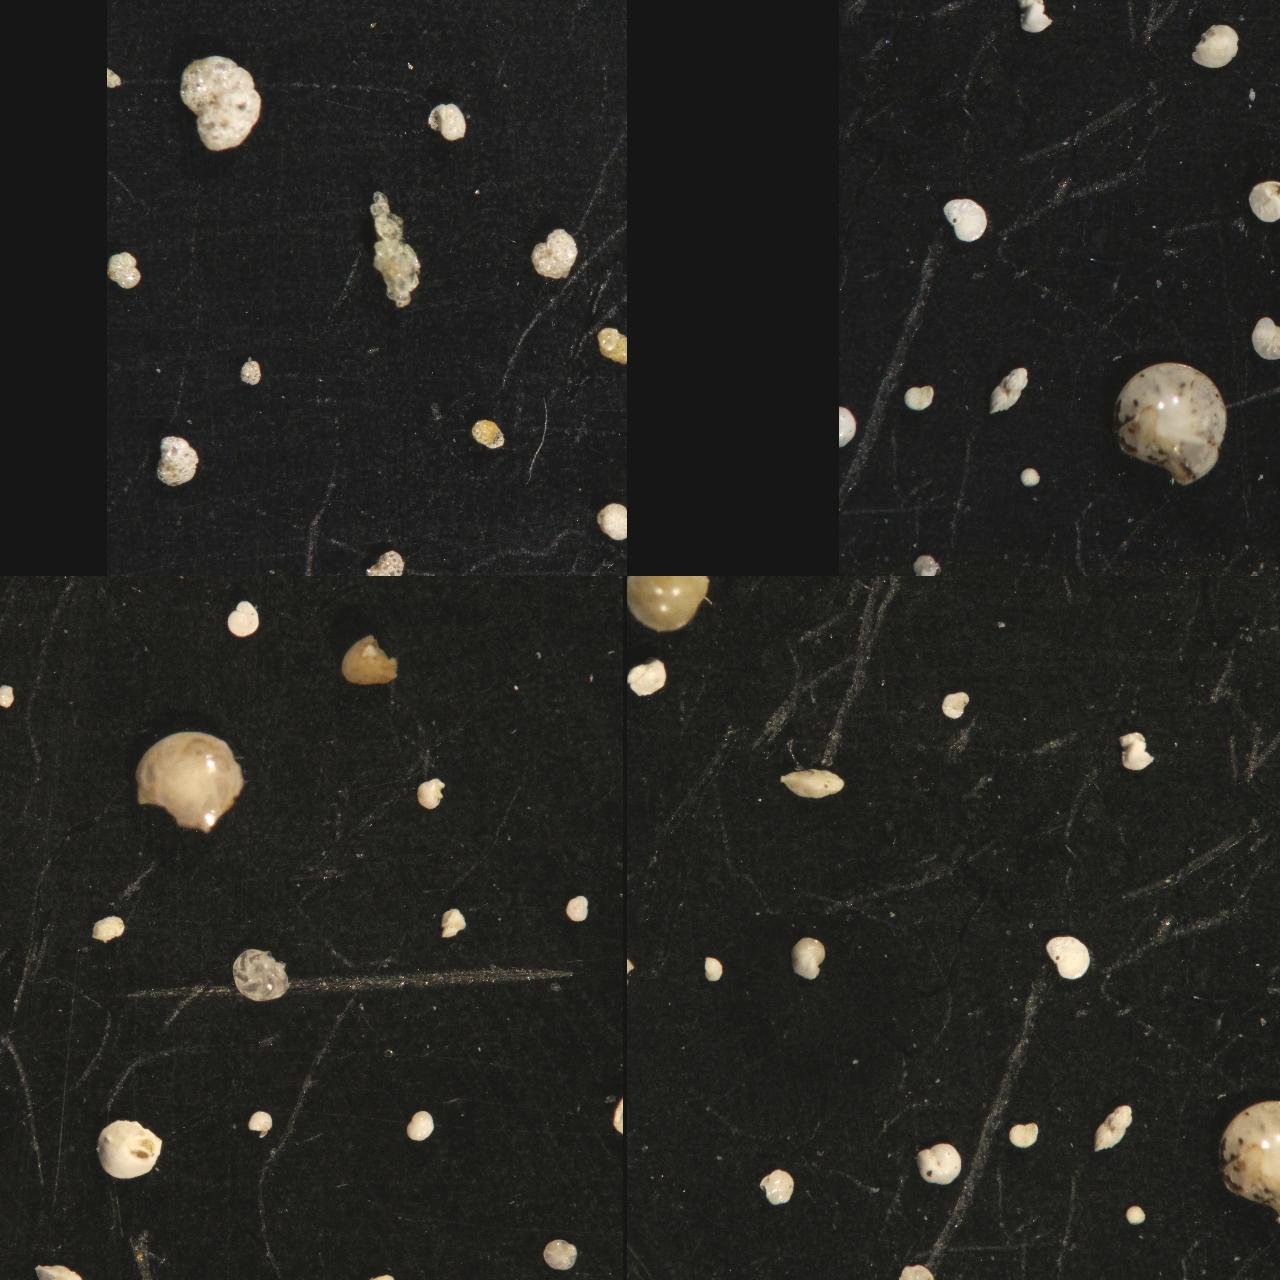agglutinated: (181, 56, 261, 154), (370, 190, 424, 309), (530, 229, 578, 281), (157, 436, 198, 486), (428, 104, 467, 142), (595, 503, 627, 542), (108, 252, 141, 288), (234, 0, 282, 25), (597, 327, 627, 365), (472, 420, 506, 450), (584, 0, 627, 23), (365, 551, 404, 576), (147, 0, 171, 26), (240, 360, 263, 386), (377, 0, 413, 13), (369, 0, 392, 13), (442, 0, 469, 11)
calcareous: (1112, 360, 1230, 488), (134, 728, 244, 835), (999, 0, 1183, 60), (1101, 576, 1280, 635), (933, 576, 1080, 634), (840, 0, 978, 57), (1220, 1098, 1280, 1226), (627, 576, 712, 634), (95, 1118, 165, 1180), (231, 948, 291, 1003), (342, 634, 397, 688), (627, 576, 678, 629), (1191, 23, 1241, 70), (779, 767, 844, 802), (941, 197, 988, 244), (915, 1142, 962, 1189), (1046, 934, 1090, 982), (1094, 1103, 1133, 1155), (988, 368, 1030, 415), (789, 937, 828, 982), (627, 658, 667, 697), (760, 1166, 796, 1207), (1117, 731, 1152, 772), (1248, 179, 1280, 224), (1251, 316, 1280, 362), (229, 600, 260, 640), (1016, 0, 1051, 35), (545, 1237, 579, 1272), (295, 576, 339, 602), (57, 576, 101, 601), (627, 954, 647, 1008), (91, 914, 125, 944), (1177, 576, 1226, 595), (1075, 0, 1126, 19), (417, 777, 445, 811), (941, 690, 971, 722), (406, 1109, 434, 1142), (33, 1262, 84, 1280), (905, 382, 935, 411), (1010, 1121, 1040, 1150), (440, 908, 467, 940), (248, 1109, 273, 1139), (0, 896, 16, 940), (1253, 0, 1280, 27), (898, 1262, 937, 1280), (897, 0, 937, 16), (912, 554, 942, 576), (566, 894, 590, 921), (1238, 576, 1269, 595), (703, 954, 724, 983), (999, 576, 1036, 592), (1247, 0, 1280, 18), (1208, 0, 1241, 18), (1137, 0, 1167, 19), (779, 576, 813, 592), (0, 585, 16, 618), (1020, 467, 1042, 490), (1126, 1201, 1148, 1226), (1061, 0, 1094, 15), (0, 1141, 16, 1171), (0, 771, 15, 804), (115, 576, 142, 593), (842, 0, 869, 15), (0, 683, 15, 710), (496, 576, 523, 591), (1165, 576, 1192, 591), (350, 1272, 399, 1280), (1265, 0, 1280, 15)
